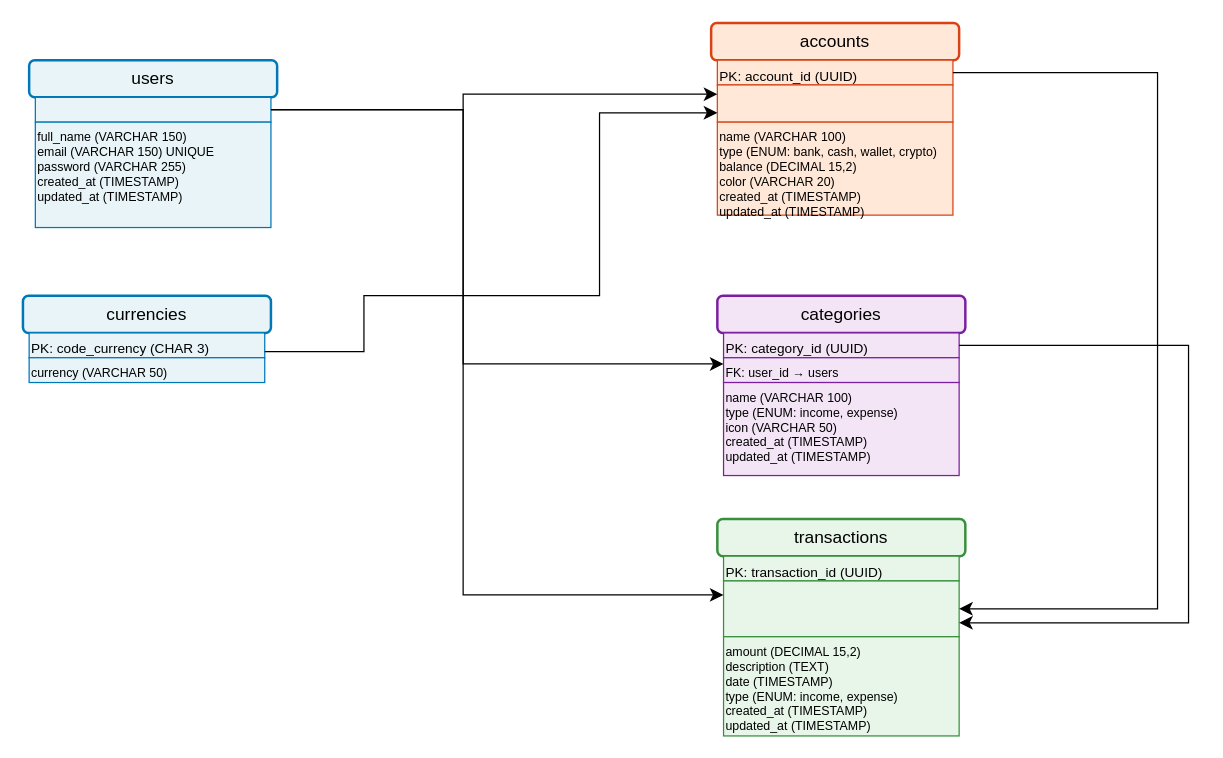
This 1223x758 diagram has some shape labels left out. The box of each missing label's shape, as (x1, y1, x2, y2) in pixels:
FK: user_id → users FK: account_id → accounts FK: category_id → categories: (722, 580, 959, 637)
FK: user_id → users FK: code_currency → currencies: (716, 84, 953, 122)
PK: user_id (UUID): (34, 96, 271, 122)
